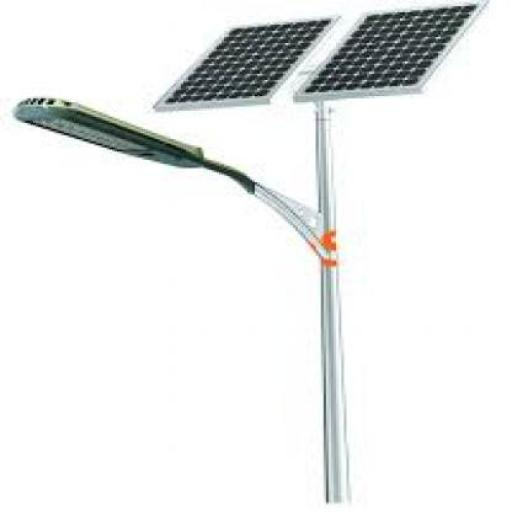street light: (12, 97, 354, 511)
